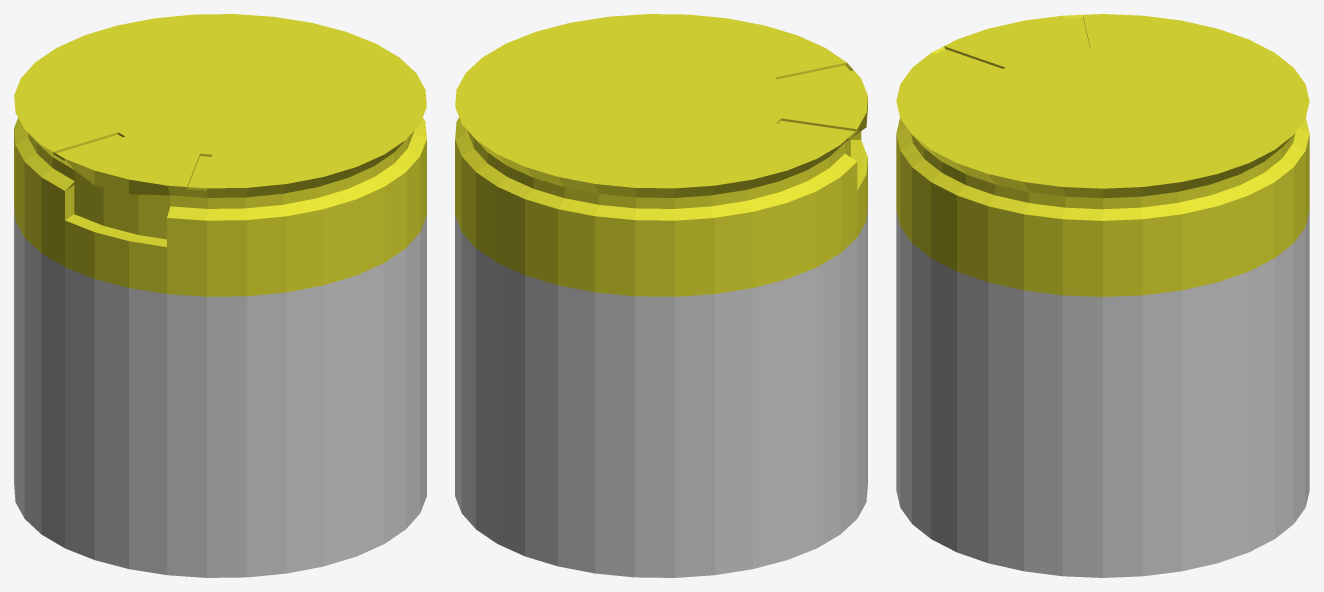
File: Baking Powder.fbx
3 views of the same model, side by side, from view 1: azimuth 30°, elevation 25°; view 2: azimuth 150°, elevation 25°; view 3: azimuth 270°, elevation 25° (orthographic).
Parts seen in each view (by area): view 1: Cylinder; view 2: Cylinder; view 3: Cylinder.
Part boxes in pixels (x1,y1,x2,y2): Cylinder: (14,14,426,577); Cylinder: (455,14,867,577); Cylinder: (896,14,1309,577).
Bounding box in the file's own units: 200 × 208 × 200.
